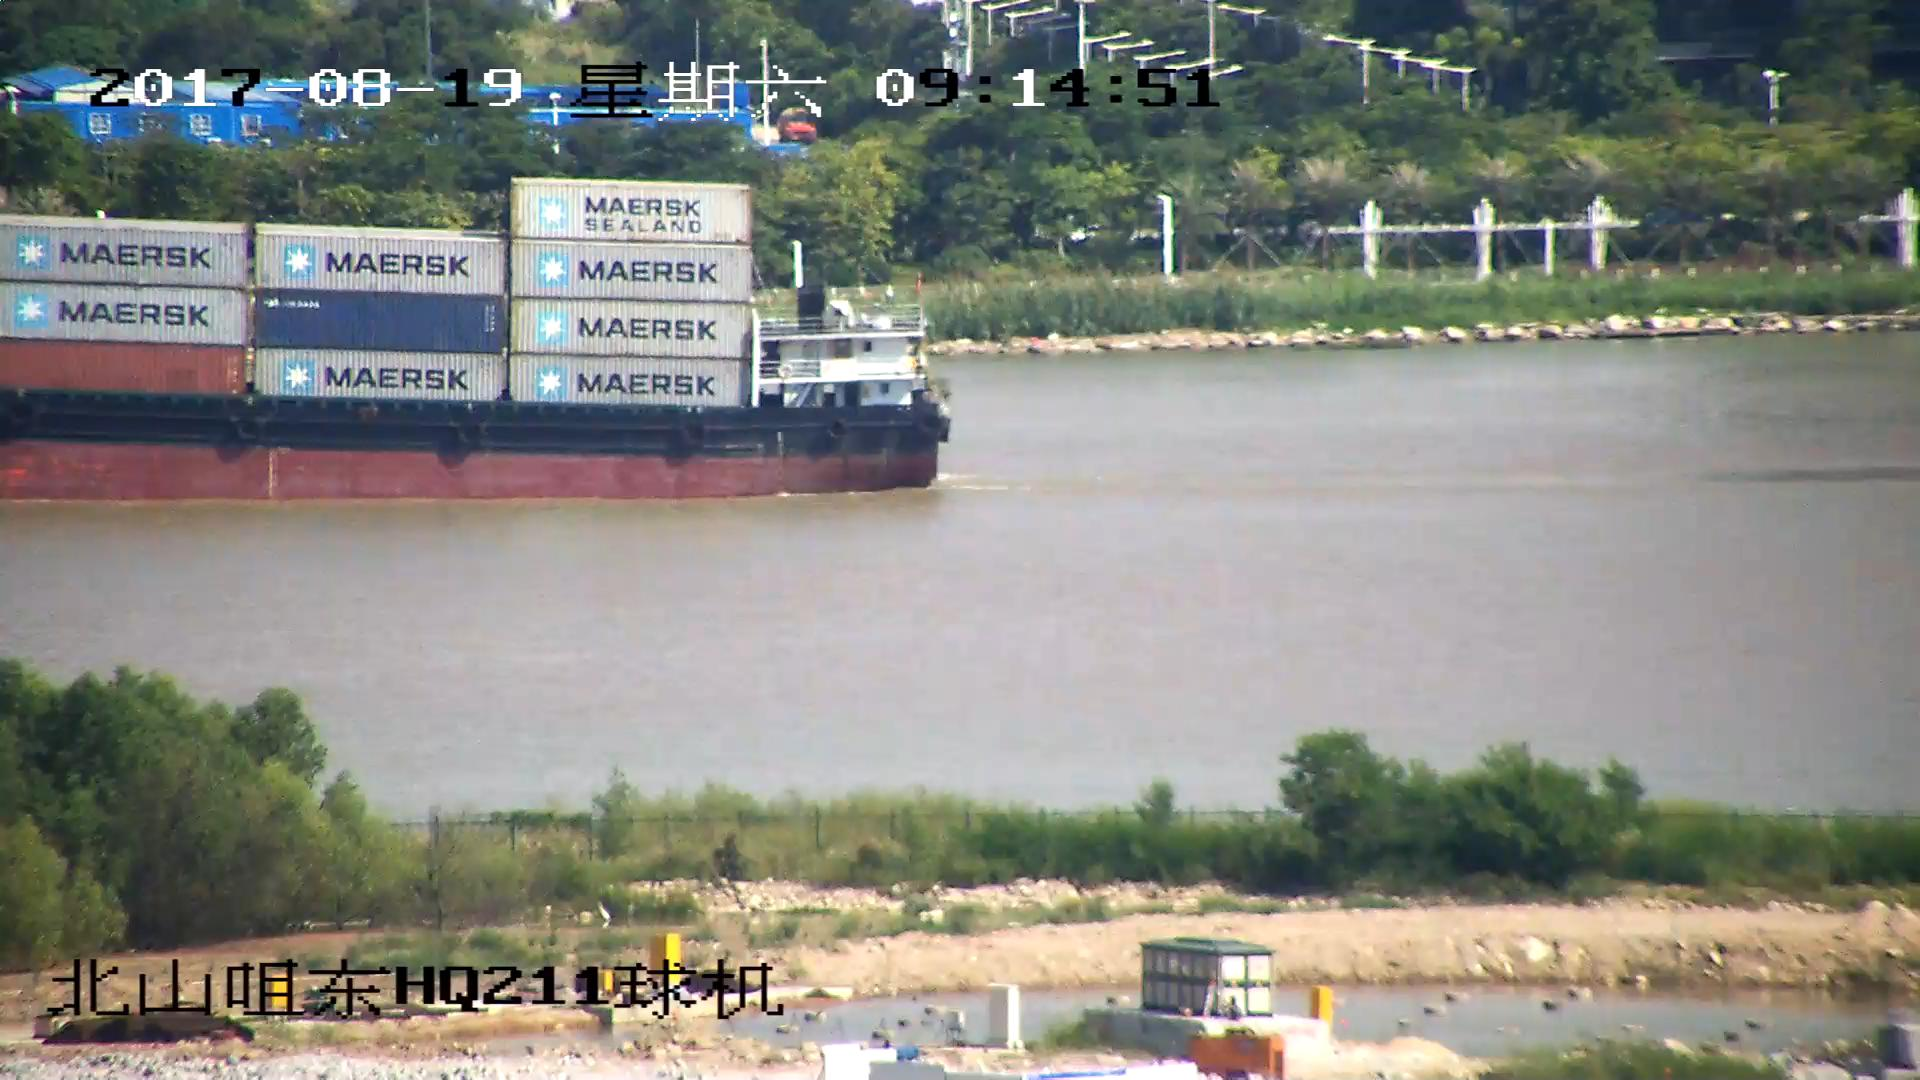container ship: (1, 172, 948, 499)
